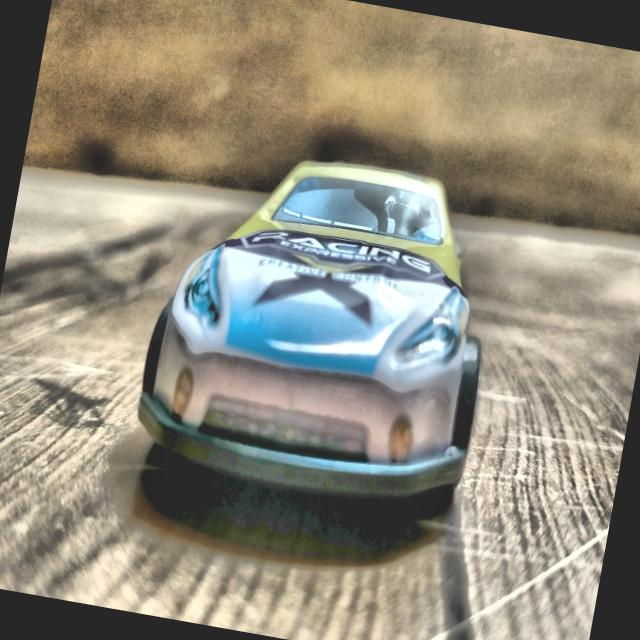Car: (129, 135, 512, 515)
